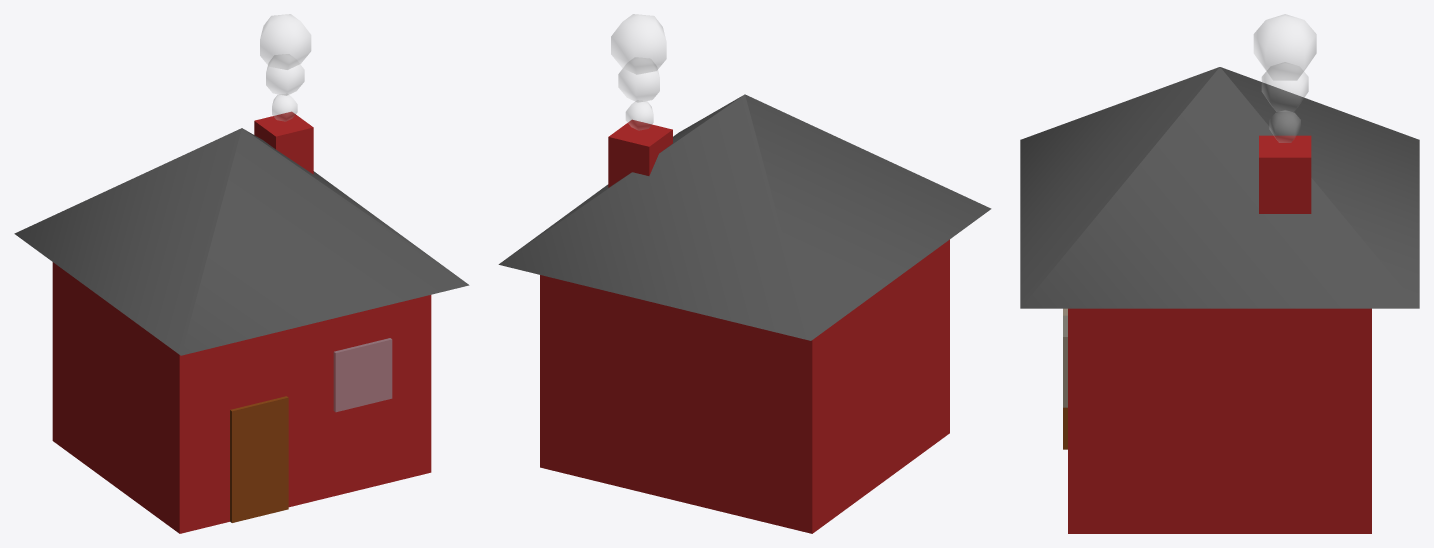
Rendered from kitchen.glb.
The picture shows the model from 3 angles, left to right: view 1: azimuth 30°, elevation 25°; view 2: azimuth 150°, elevation 25°; view 3: azimuth 270°, elevation 25°; orthographic projection. The views are drawn at different scales.
Parts seen in each view (by area): view 1: kitchen, smoke_group; view 2: kitchen, smoke_group; view 3: kitchen, smoke_group.
Boxes of the visible parts, x1,y1,x2,y2 form: kitchen: (14, 111, 469, 533); smoke_group: (260, 14, 310, 121); kitchen: (498, 94, 991, 533); smoke_group: (611, 14, 666, 130); kitchen: (1020, 67, 1419, 533); smoke_group: (1254, 14, 1316, 142).
Bounding box in the file's own units: 0.9192 × 1.23 × 0.9192.
